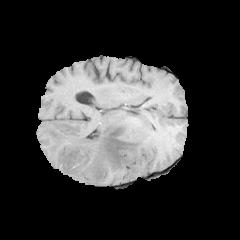glioma: (43, 123, 143, 183)
